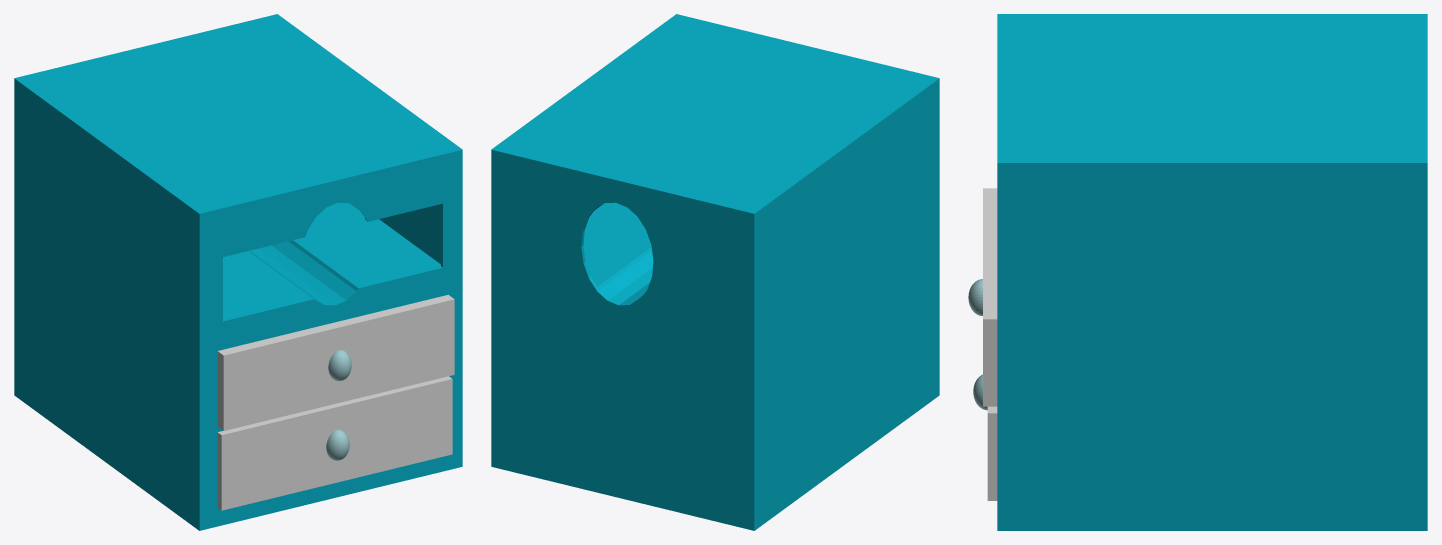
The model's file is Drawrs p149.glb.
3 views of the same model, side by side, from view 1: azimuth 30°, elevation 25°; view 2: azimuth 150°, elevation 25°; view 3: azimuth 270°, elevation 25° (orthographic). The views are drawn at different scales.
Visible parts, largest first — view 1: Mesh_Mesh_head_geo.001_lambert2SG.001; view 2: Mesh_Mesh_head_geo.001_lambert2SG.001; view 3: Mesh_Mesh_head_geo.001_lambert2SG.001.
Boxes of the visible parts, x1,y1,x2,y2 form: Mesh_Mesh_head_geo.001_lambert2SG.001: [14, 14, 462, 530]; Mesh_Mesh_head_geo.001_lambert2SG.001: [491, 14, 939, 530]; Mesh_Mesh_head_geo.001_lambert2SG.001: [968, 14, 1427, 530].
Bounding box in the file's own units: 73 × 84 × 95.
